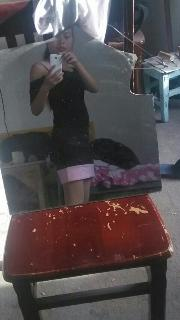short sleeve dress: (29, 61, 95, 185)
